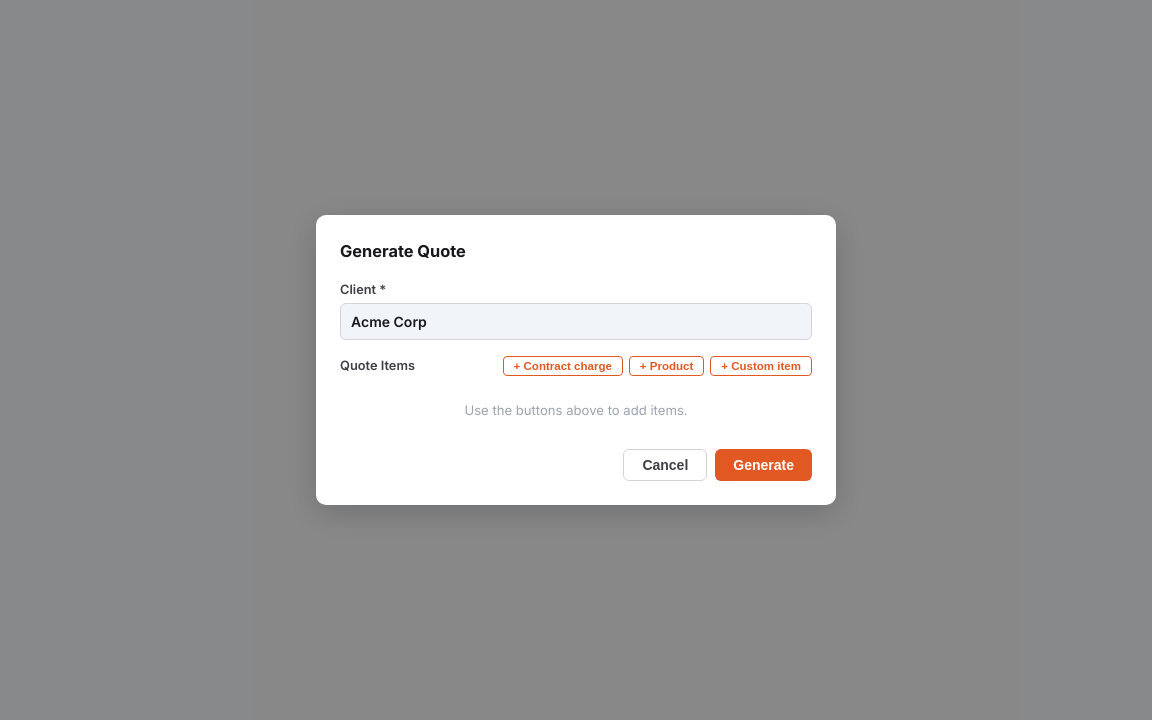
it: GenerateQuoteModal › adds a Product line backed by the add-on catalog (no contract picker)
The image size is (1152, 720).
Click the button titled "Add Product" at (667, 366), box [629, 356, 704, 376]
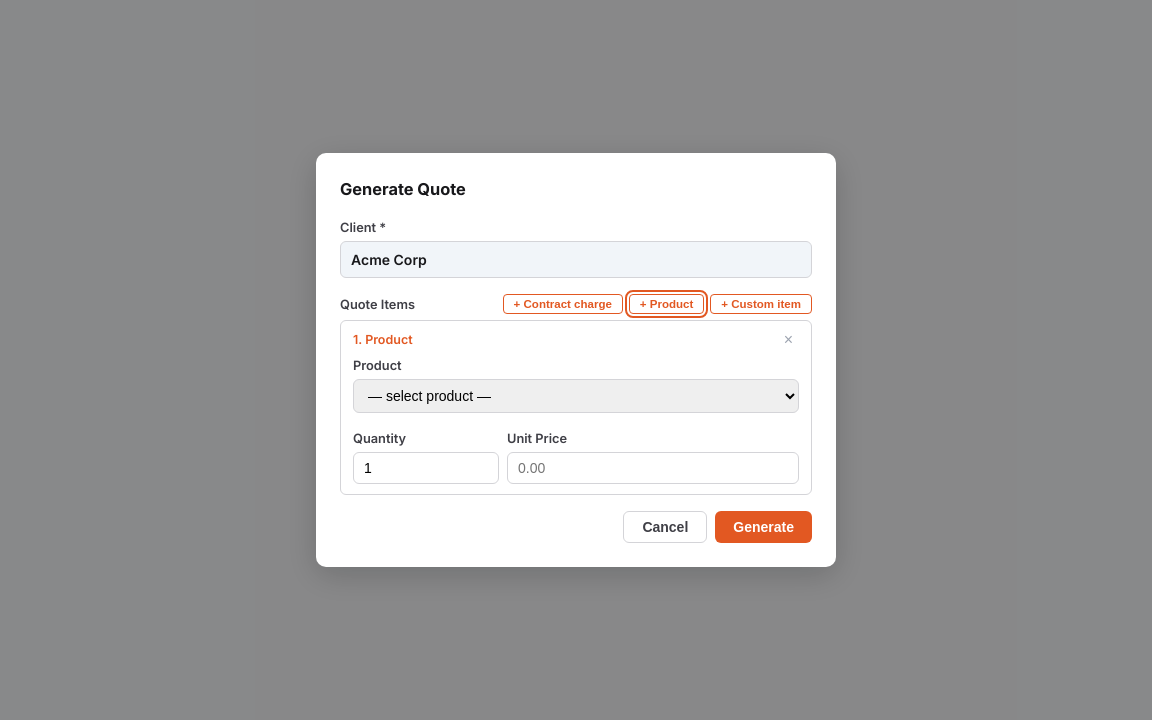
Result: the text "1. Product" is shown at [353, 331, 413, 350]
